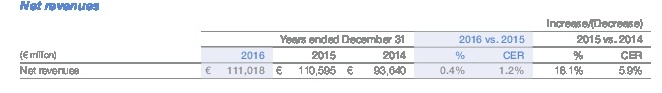table: (0, 0, 662, 93)
